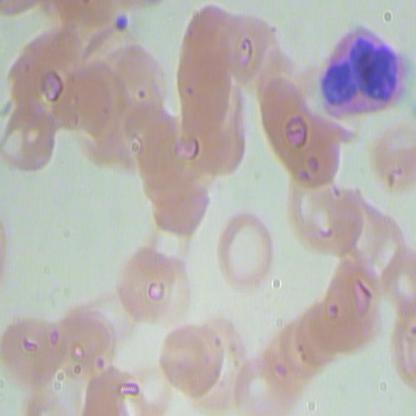Platelets: (112, 11, 133, 36)
RBC: (52, 60, 117, 150), (156, 313, 224, 399), (53, 291, 120, 377), (254, 78, 318, 168), (1, 94, 64, 185), (1, 298, 67, 384), (112, 236, 175, 325), (105, 36, 168, 125), (212, 204, 274, 293), (145, 237, 207, 326), (150, 159, 212, 248), (266, 312, 329, 383), (293, 294, 356, 365), (309, 276, 371, 348), (322, 263, 384, 335), (251, 335, 313, 406), (284, 174, 346, 245), (306, 181, 368, 252), (329, 192, 391, 263), (227, 345, 289, 415), (120, 89, 175, 159), (223, 11, 278, 81), (361, 120, 415, 191)
WBC: (319, 18, 411, 125)
